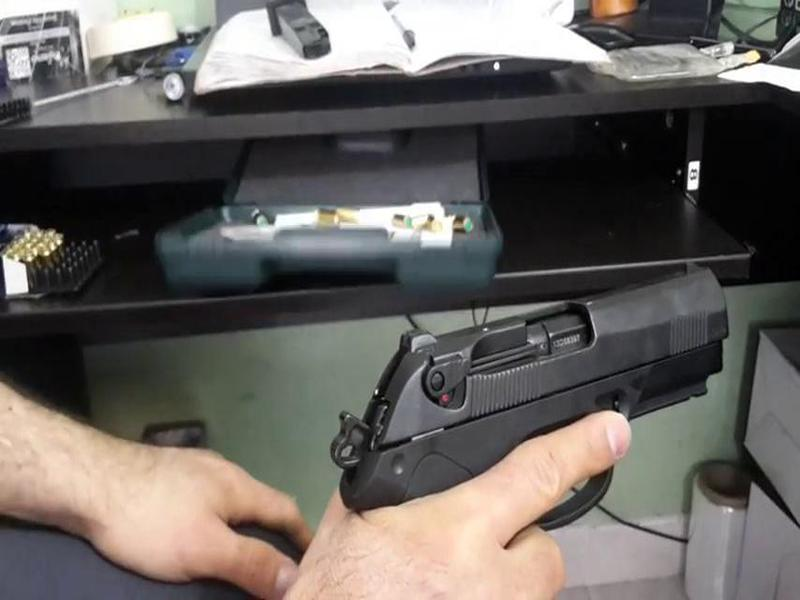Pistola: (327, 256, 773, 538)
